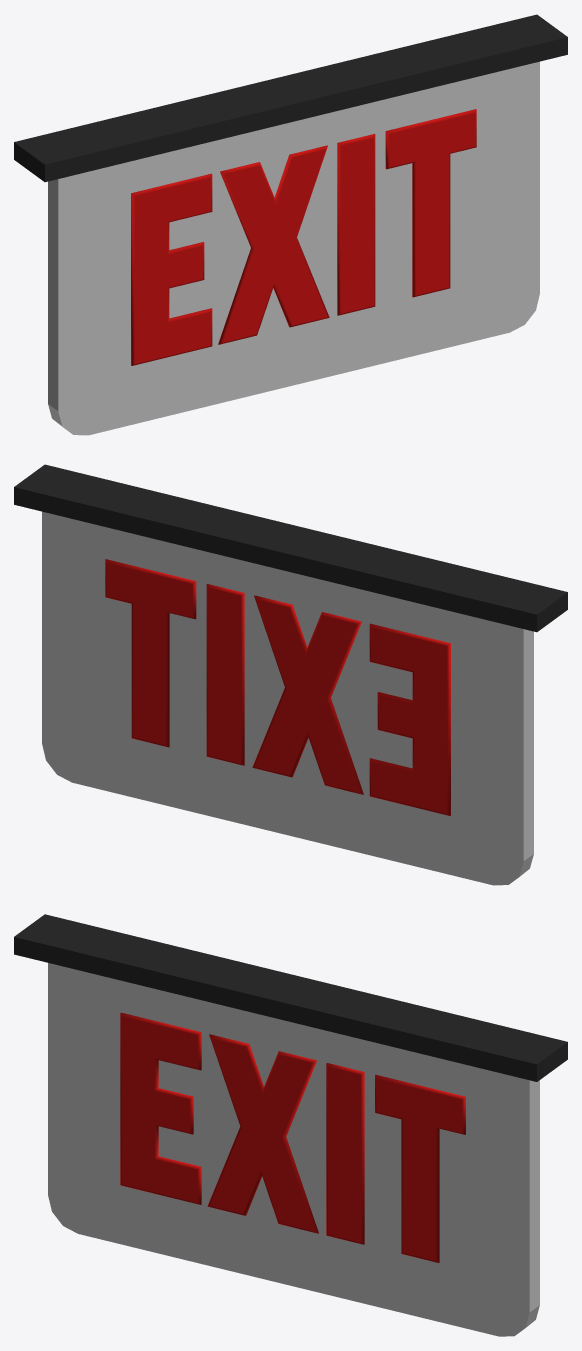
The model's file is ExitSign.obj.
The picture shows the model from 3 angles, top to bottom: view 1: azimuth 30°, elevation 25°; view 2: azimuth 150°, elevation 25°; view 3: azimuth 330°, elevation 25°; orthographic projection.
Parts seen in each view (by area): view 1: Cube, Text; view 2: Cube, Text; view 3: Cube, Text.
Boxes of the visible parts, x1,y1,x2,y2 form: Cube: (14, 14, 567, 435); Text: (131, 109, 476, 365); Cube: (14, 464, 567, 885); Text: (105, 559, 450, 815); Cube: (14, 914, 567, 1336); Text: (120, 1012, 465, 1262).
Bounding box in the file's own units: 1.76 × 0.9367 × 0.18.
